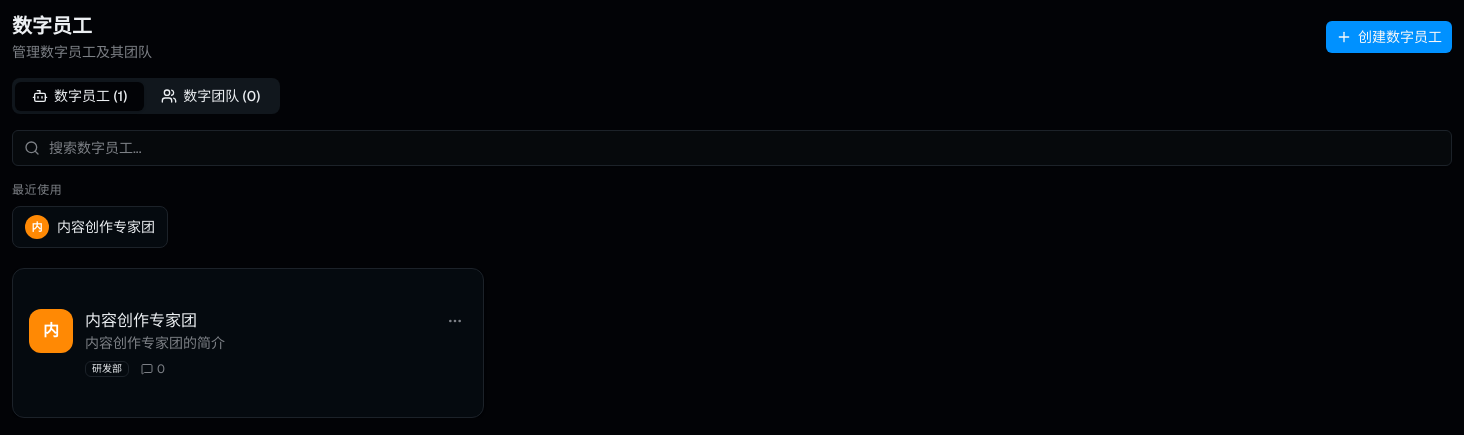
Test: DE-3：建出来的团队必须显示 › /api/teams 为空时显示空态，而不是拿 agents 凑数
Click the tab "数字团队 (0)".
click(211, 96)  # box left=144, top=82, right=277, bottom=110
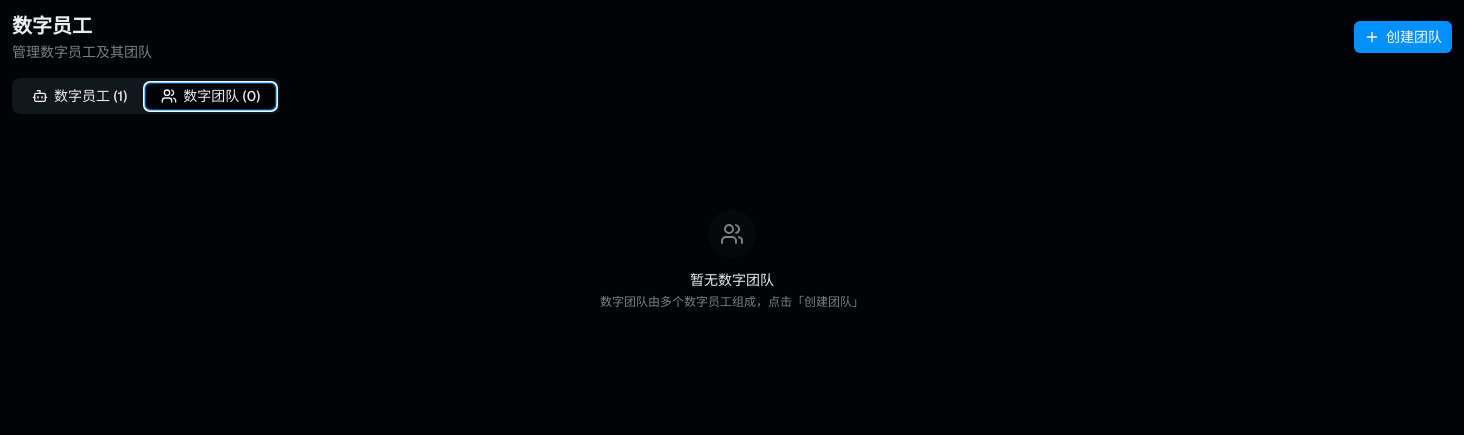
Check: the text "暂无数字团队" is shown, box left=690, top=271, right=774, bottom=289
